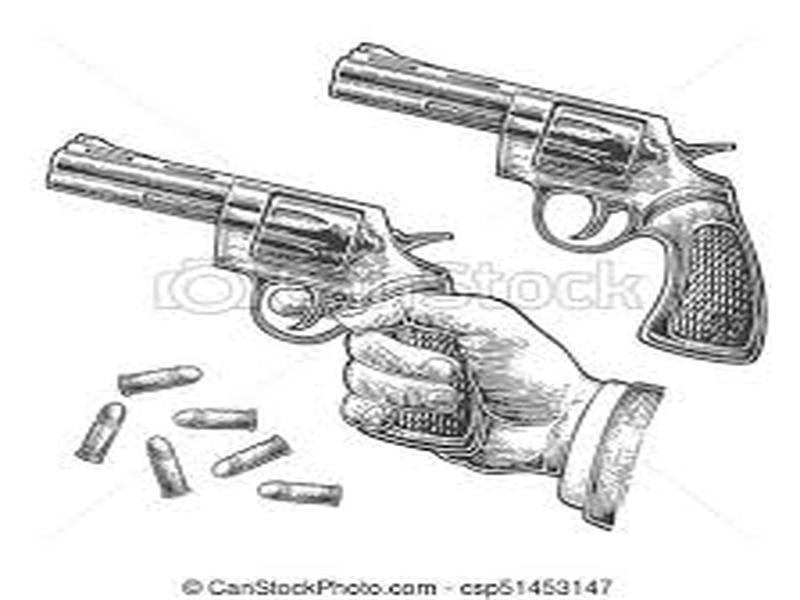gun: (32, 130, 597, 524), (320, 27, 779, 371)
